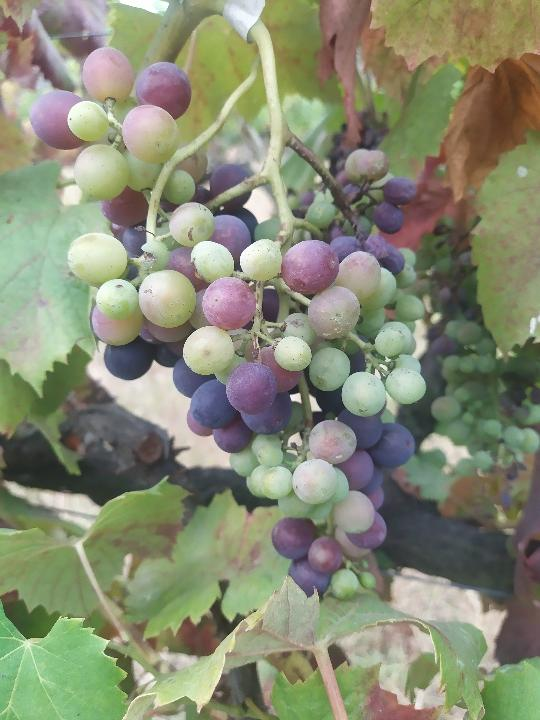grape: (24, 44, 426, 607)
